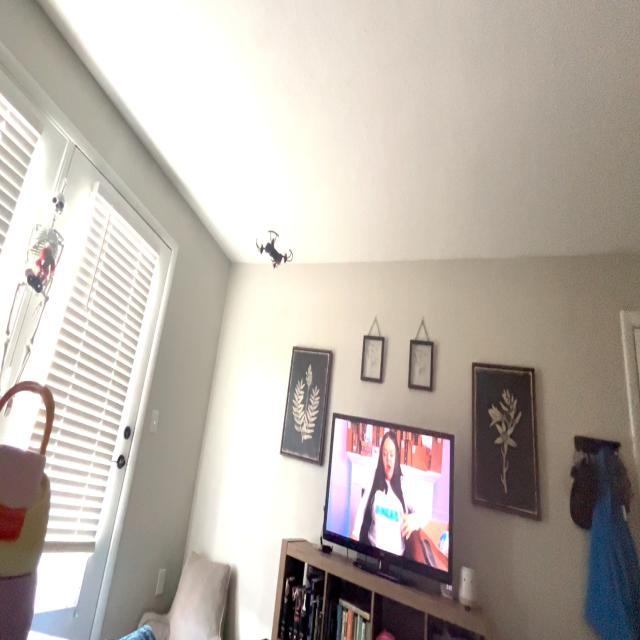drone: (251, 223, 301, 283)
